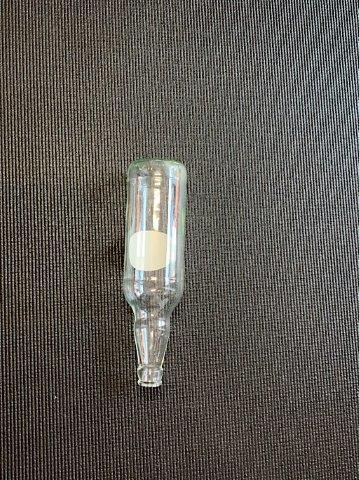botolkaca: (123, 157, 184, 387)
